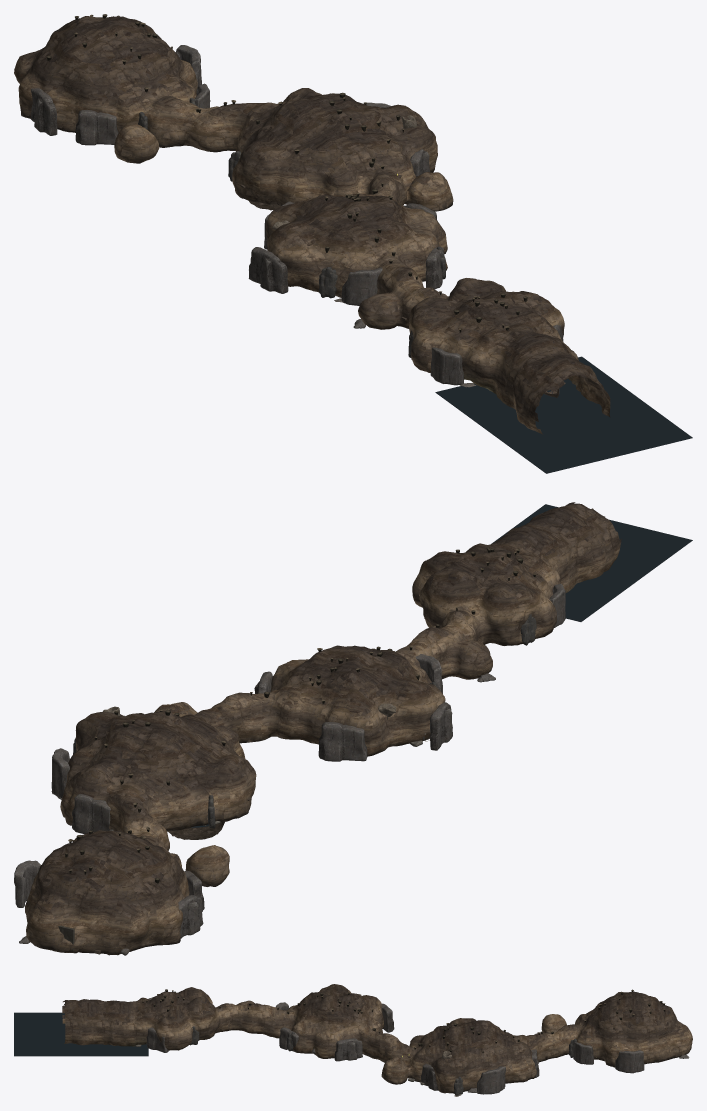
File: island_caves.glb
3 views of the same model, one above another, from view 1: azimuth 30°, elevation 25°; view 2: azimuth 150°, elevation 25°; view 3: azimuth 270°, elevation 25° (orthographic). The views are drawn at different scales.
Visible parts, largest first — view 1: Cave, Water_Sea, Prop_cave_wall_c, Prop_cave_wall_b.004, Prop_cave_wall_a.001, Prop_cave_wall_a, Prop_cave_wall_c.003; view 2: Cave, Water_Sea, Prop_cave_wall_b.001, Prop_cave_wall_b.003, Prop_cave_wall_c, Prop_cave_wall_c.003, Prop_cave_wall_a.003, Prop_cave_wall_a.002; view 3: Cave, Water_Sea, Prop_cave_wall_a.002, Prop_cave_wall_a.003, Prop_cave_wall_c.001, Prop_cave_wall_a.004, Prop_cave_wall_b, Prop_cave_wall_c.002, Prop_cave_wall_b.002, Prop_cave_wall_b.001.
Part boxes in pixels (bbox=[...]): Cave: bbox=[14, 16, 610, 434]; Water_Sea: bbox=[435, 356, 692, 473]; Prop_cave_wall_c: bbox=[248, 247, 288, 293]; Prop_cave_wall_b.004: bbox=[75, 110, 118, 145]; Prop_cave_wall_a.001: bbox=[341, 267, 382, 305]; Prop_cave_wall_a: bbox=[430, 347, 463, 385]; Prop_cave_wall_c.003: bbox=[30, 88, 57, 135]; Cave: bbox=[25, 502, 621, 955]; Water_Sea: bbox=[491, 504, 692, 621]; Prop_cave_wall_b.001: bbox=[318, 722, 367, 761]; Prop_cave_wall_b.003: bbox=[72, 793, 110, 834]; Prop_cave_wall_c: bbox=[430, 702, 452, 750]; Prop_cave_wall_c.003: bbox=[178, 895, 203, 938]; Prop_cave_wall_a.003: bbox=[14, 860, 40, 907]; Prop_cave_wall_a.002: bbox=[51, 748, 69, 799]; Cave: bbox=[62, 984, 692, 1093]; Water_Sea: bbox=[14, 1012, 148, 1056]; Prop_cave_wall_a.002: bbox=[477, 1066, 505, 1094]; Prop_cave_wall_a.003: bbox=[615, 1050, 644, 1073]; Prop_cave_wall_c.001: bbox=[334, 1038, 362, 1061]; Prop_cave_wall_a.004: bbox=[573, 1042, 593, 1064]; Prop_cave_wall_b: bbox=[146, 1027, 168, 1052]; Prop_cave_wall_c.002: bbox=[421, 1064, 438, 1090]; Prop_cave_wall_b.002: bbox=[279, 1027, 298, 1052]; Prop_cave_wall_b.001: bbox=[382, 1003, 394, 1032].
Size of what is drawn, in the model's own units: 30.05 by 10.34 by 106.
Materials: 31 (27 with a texture image).
